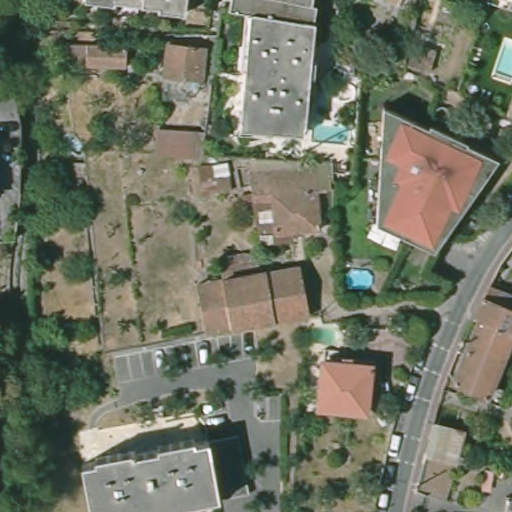pool: (306, 118, 354, 144), (343, 266, 378, 293), (306, 320, 338, 347), (493, 37, 512, 80)
